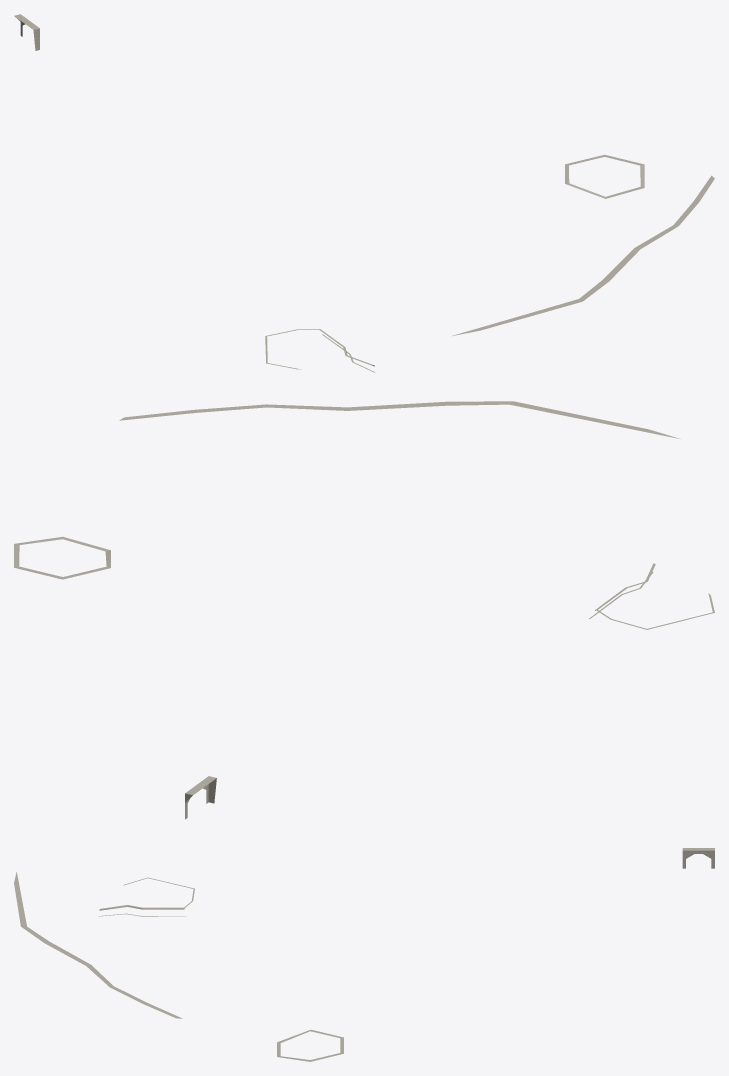
Rendered from kd_stage_136282_2_28.glb.
3 views of the same model, one above another, from view 1: azimuth 30°, elevation 25°; view 2: azimuth 150°, elevation 25°; view 3: azimuth 270°, elevation 25° (orthographic). The views are drawn at different scales.
Parts seen in each view (by area): view 1: kd_stage_136282_2_28; view 2: kd_stage_136282_2_28; view 3: kd_stage_136282_2_28.
Part boxes in pixels (x1,y1,x2,y2): kd_stage_136282_2_28: [14, 14, 714, 372]; kd_stage_136282_2_28: [14, 401, 714, 819]; kd_stage_136282_2_28: [14, 848, 714, 1061].
Bounding box in the file's own units: 127 × 21.8 × 194.
1 material, 1 textured.
